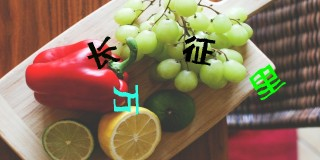万: (111, 83, 142, 115)
征: (183, 35, 216, 67)
里: (248, 63, 286, 100)
长: (85, 34, 122, 70)
